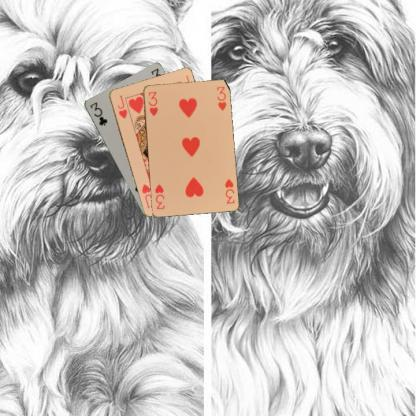3c: (87, 99, 109, 127)
3h: (145, 89, 159, 117), (222, 176, 236, 204)
Jh: (115, 92, 128, 119)
